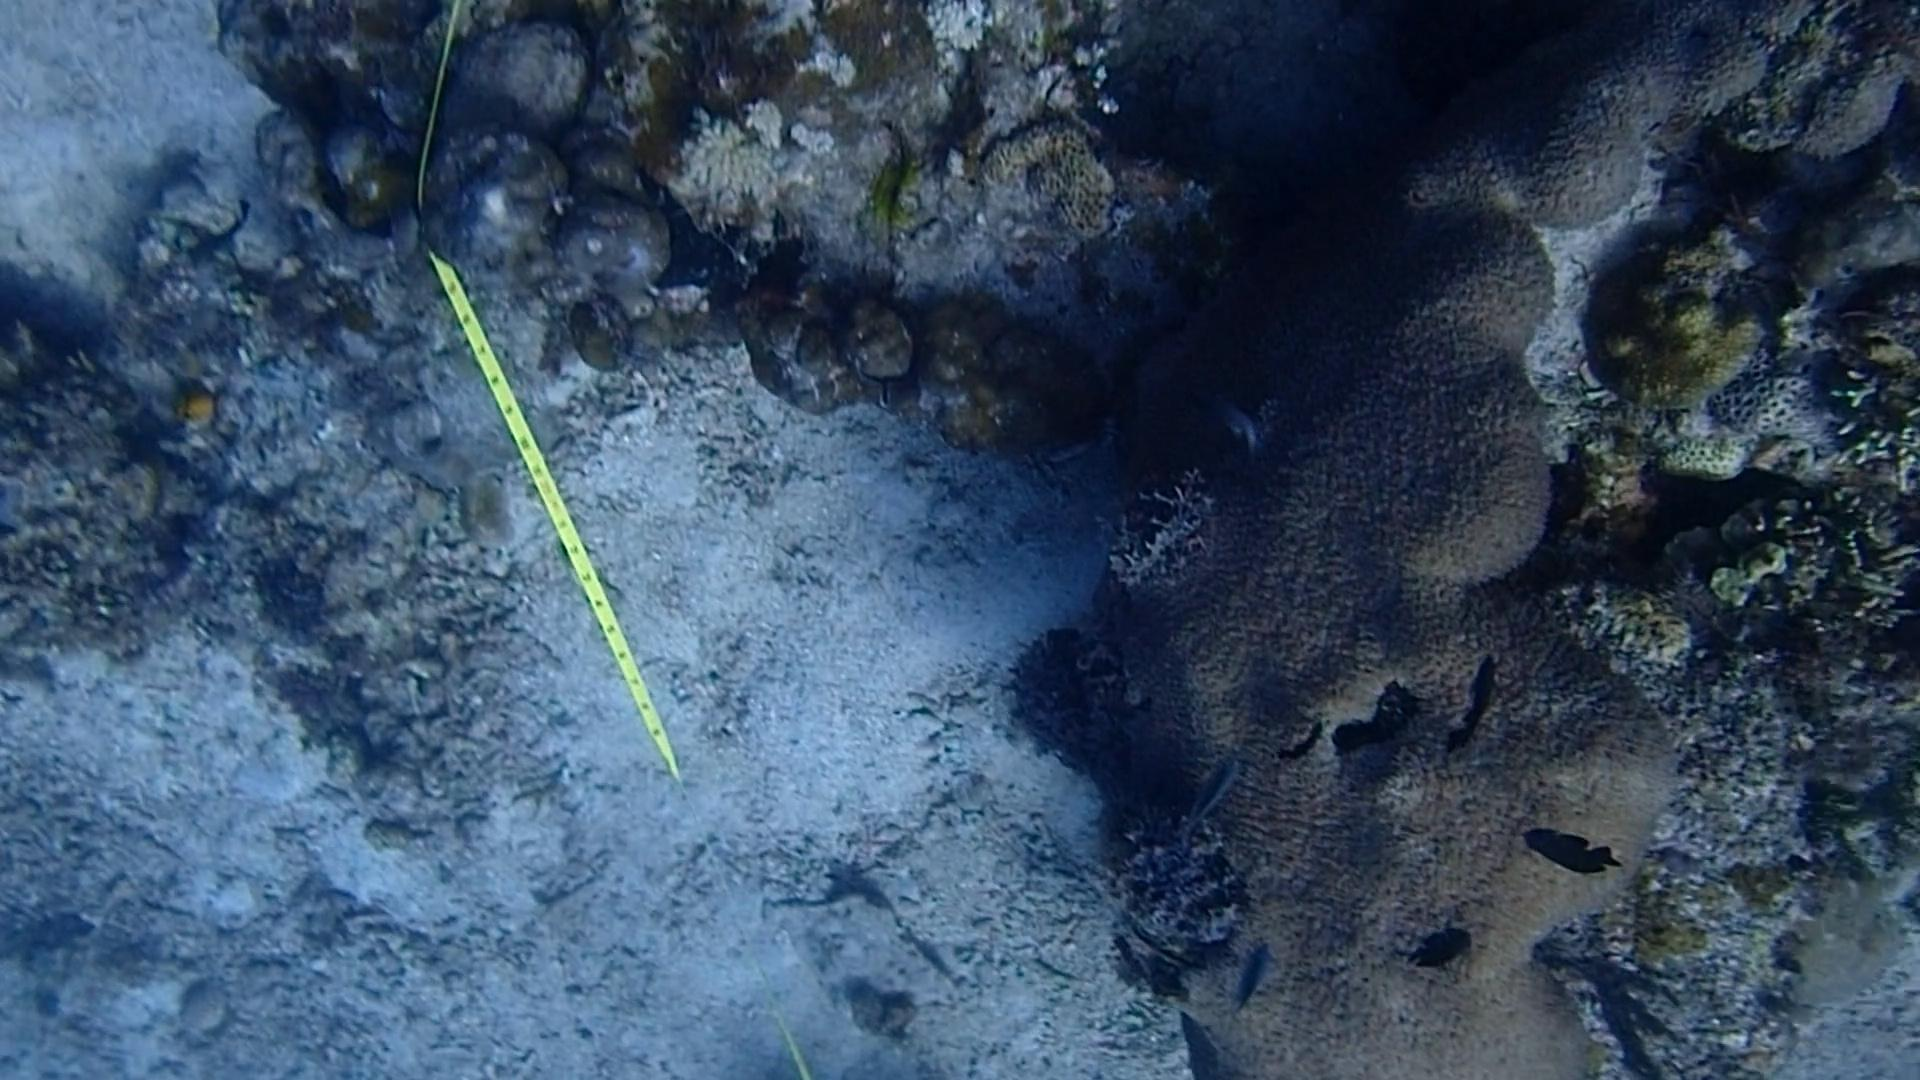Dark Fish: (1443, 657, 1520, 760), (183, 187, 266, 284), (1520, 811, 1623, 886), (1403, 915, 1480, 985), (1278, 707, 1335, 777)
Light Fish: (1172, 752, 1254, 851), (1200, 373, 1271, 458), (1226, 932, 1278, 1018)
